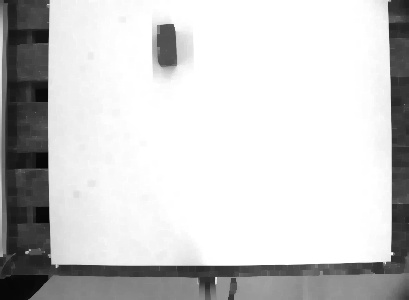b3: (154, 21, 180, 68)
